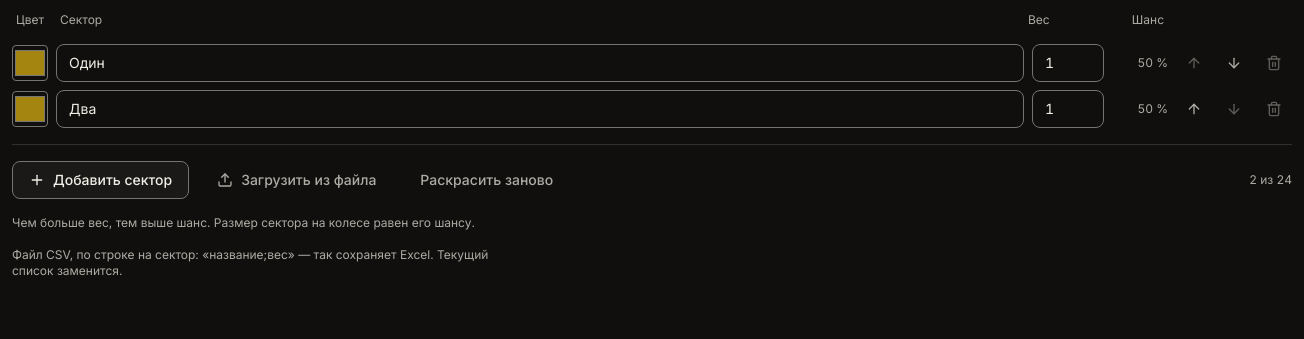
Test case: сектора рулетки › последние два сектора не удалить: меньше — не колесо
The width and height of the screenshot is (1304, 339).
Expected: the button named "Удалить «Один»" is disabled, [1256,45,1292,81]
Click the button "Добавить сектор" at (101, 180), box [12,161,189,199]
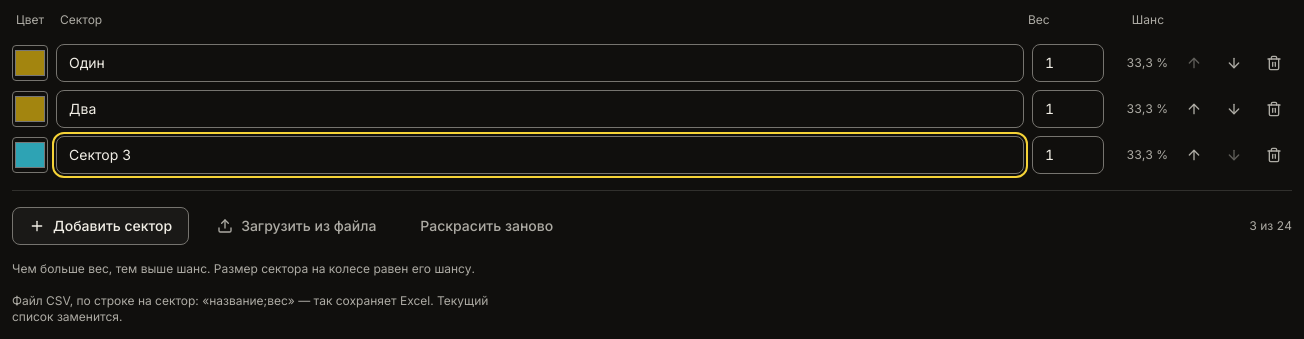
Expected: the number of list items is 3, [12,44,1292,82]; [12,90,1292,128]; [12,136,1292,174]
Expected: the button named "Удалить «Один»" is enabled, [1256,45,1292,81]
